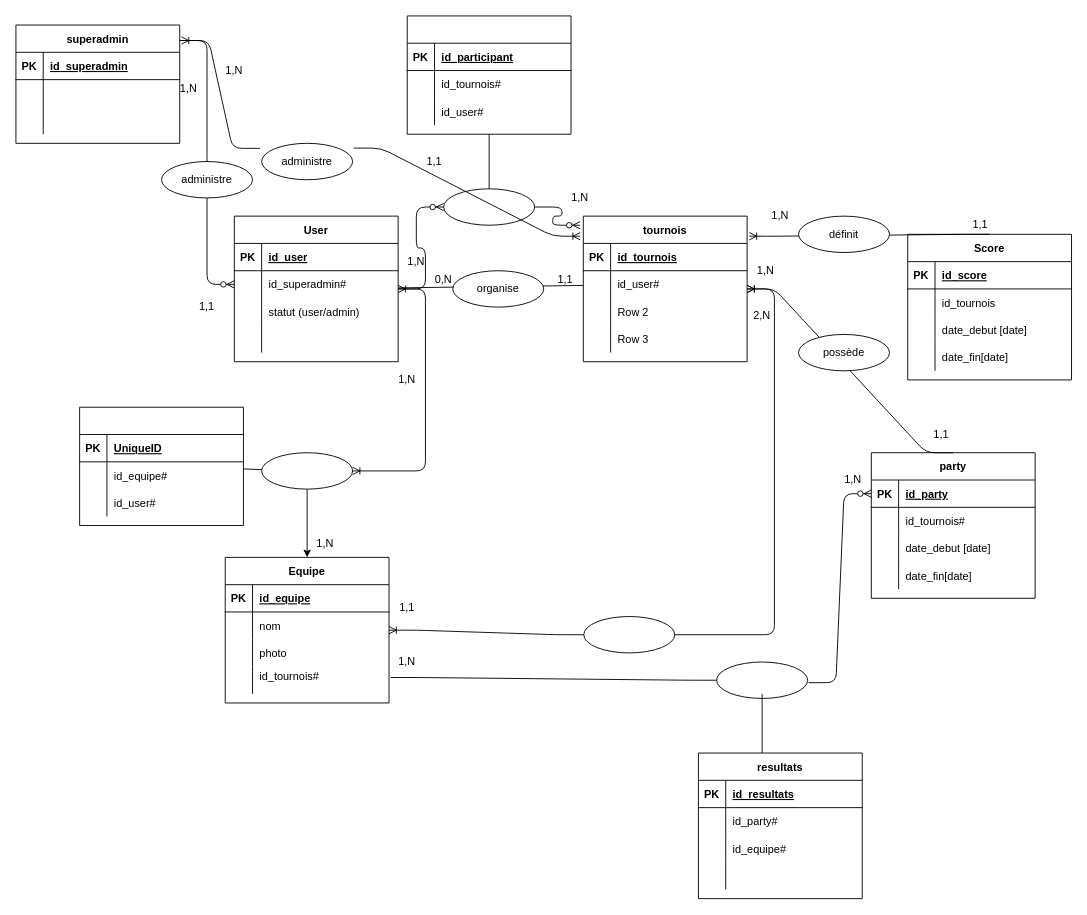
Some shapes in this 1087 by 915 pixel diagram are drawn without their labels. The box of each missing label's shape, as (x1, y1, x2, y2) in pixels:
adhesion_equipe: (79, 406, 243, 526)
adhère: (261, 452, 353, 489)
jouer: (716, 661, 808, 698)
participants: (406, 15, 571, 134)
participe: (443, 188, 535, 225)
s'inscrire: (583, 616, 675, 653)
